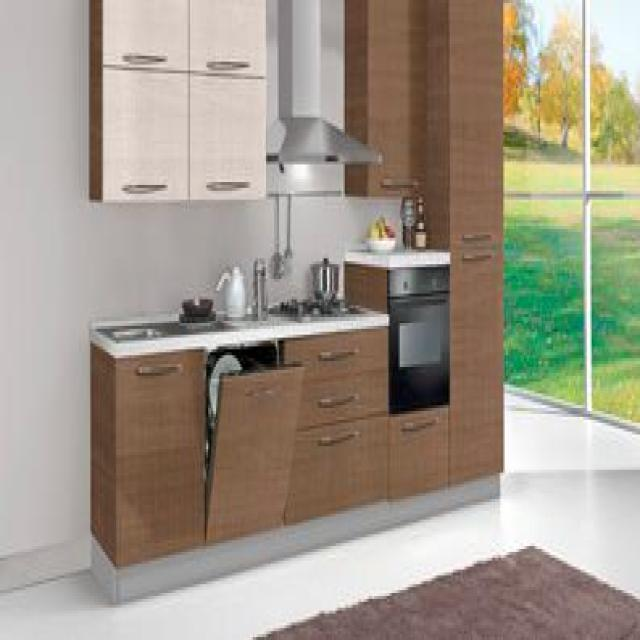dishwasher: (202, 332, 302, 543)
